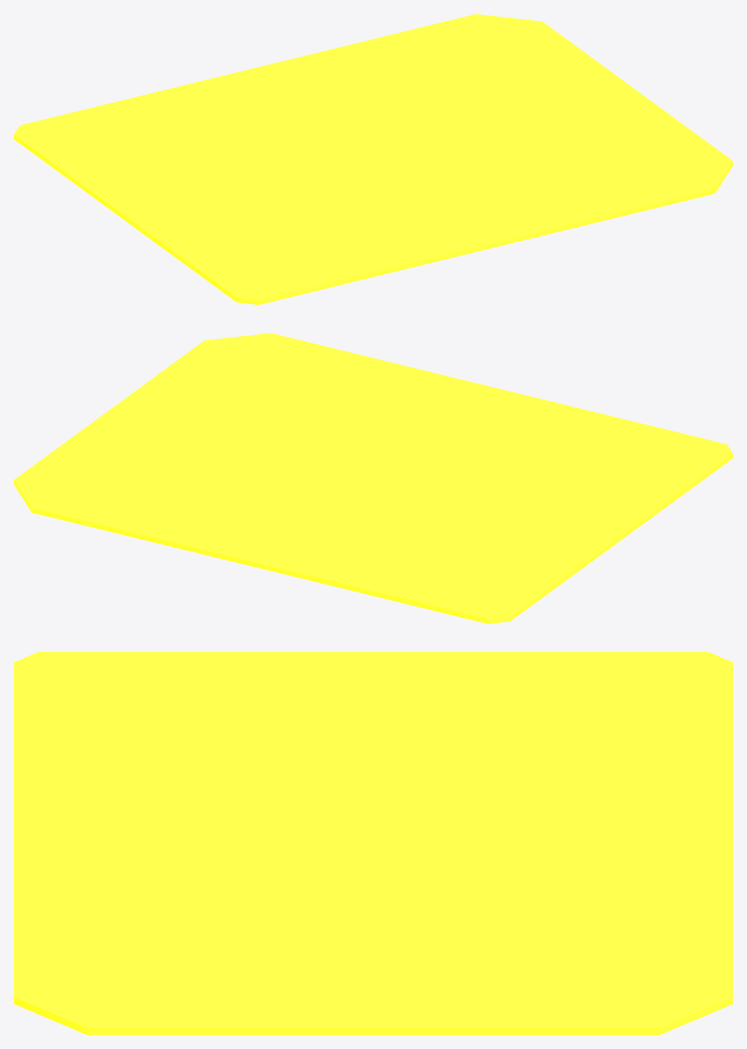
File: top_plate.dae
3 views of the same model, one above another, from view 1: azimuth 30°, elevation 25°; view 2: azimuth 150°, elevation 25°; view 3: azimuth 270°, elevation 25° (orthographic). The views are drawn at different scales.
Visible parts, largest first — view 1: Top_Plate; view 2: Top_Plate; view 3: Top_Plate.
Boxes of the visible parts, x1,y1,x2,y2 form: Top_Plate: (14, 14, 732, 304); Top_Plate: (14, 333, 732, 623); Top_Plate: (14, 652, 732, 1034).
Bounding box in the file's own units: 0.73 × 0.59 × 0.00635.
